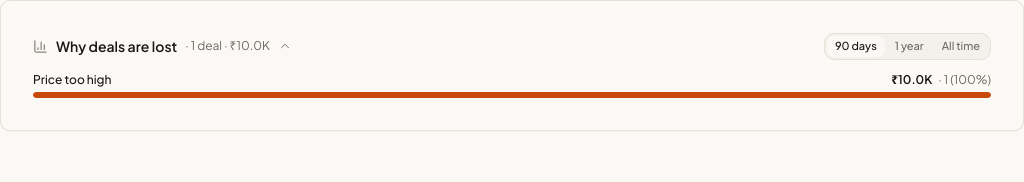
Test case: LossReasonsCard › the window picker actually filters by lost_at
Expected: the text "· 1 deal · ₹10.0K" is shown, [185,38,270,54]
Click the button "All time": (961, 46) [934,36,988,56]
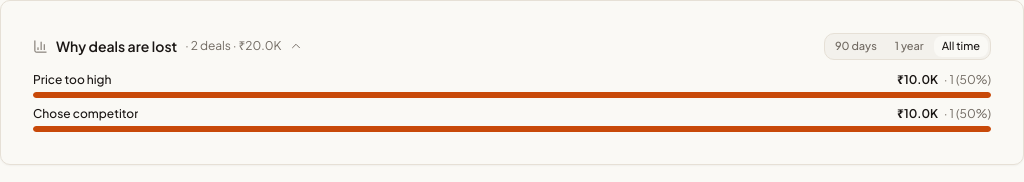
Now the text "· 2 deals · ₹20.0K" is shown, box [185,38,281,54]
